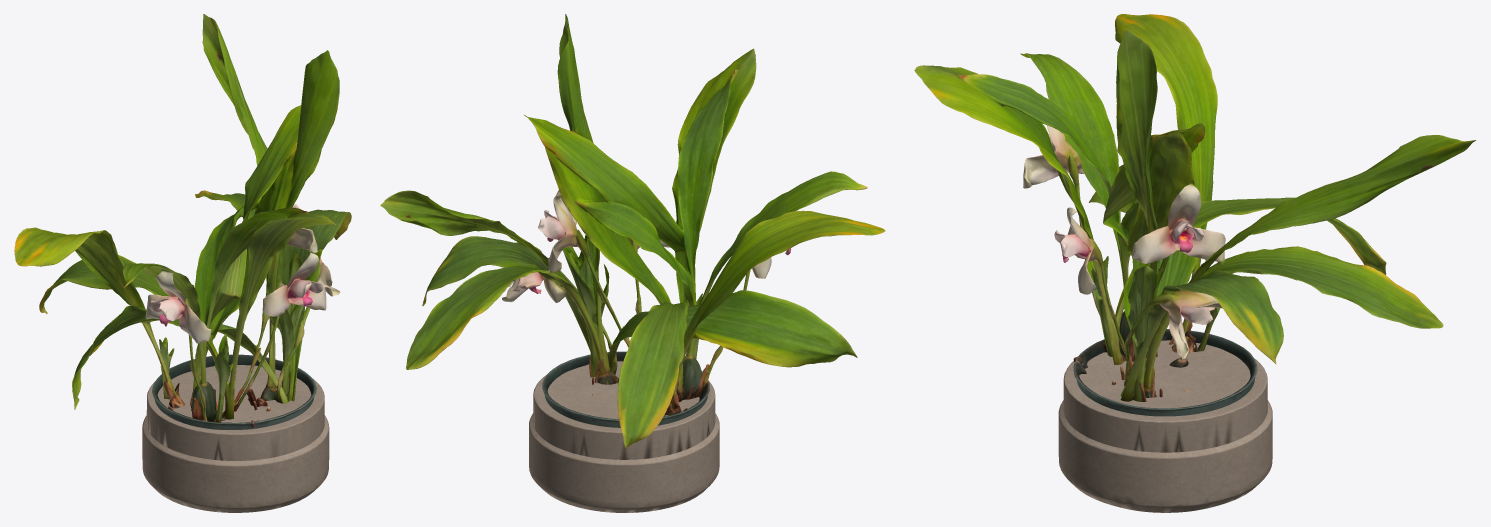
The model's file is 3d_lyncaste.glb.
The picture shows the model from 3 angles, left to right: view 1: azimuth 30°, elevation 25°; view 2: azimuth 150°, elevation 25°; view 3: azimuth 270°, elevation 25°; orthographic projection. The views are drawn at different scales.
Visible parts, largest first — view 1: _n3d2, object 2; view 2: _n3d2, object 2; view 3: _n3d2, object 2.
Part boxes in pixels (x1,y1,x2,y2): _n3d2: [14, 14, 351, 429]; object 2: [142, 365, 329, 512]; _n3d2: [380, 14, 885, 451]; object 2: [529, 361, 719, 512]; _n3d2: [914, 14, 1475, 416]; object 2: [1058, 340, 1272, 512].
Size of the model in its own units: 0.5901 by 0.6149 by 0.6488.
Materials: 2 (2 with a texture image).
